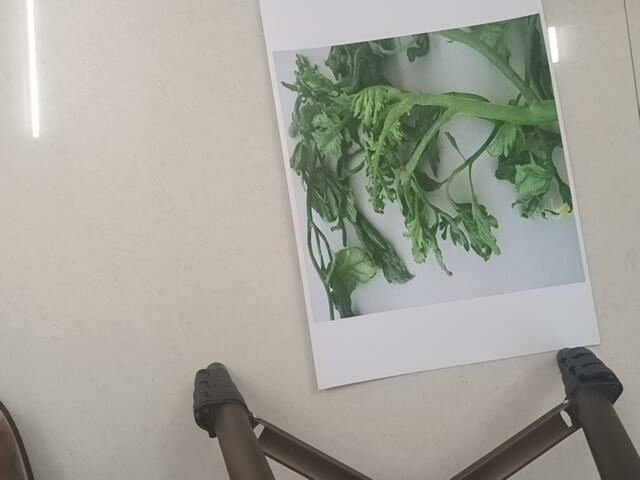Tomamto_Mosaic_virus: (282, 57, 578, 290)
